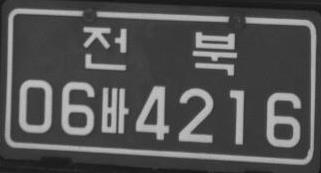0: (18, 78, 53, 133)
1: (223, 89, 254, 145)
2: (179, 86, 213, 143)
4: (136, 85, 169, 140)
6: (59, 80, 96, 136), (265, 91, 301, 147)
바: (101, 86, 129, 133)
전북_D: (82, 26, 237, 76)
